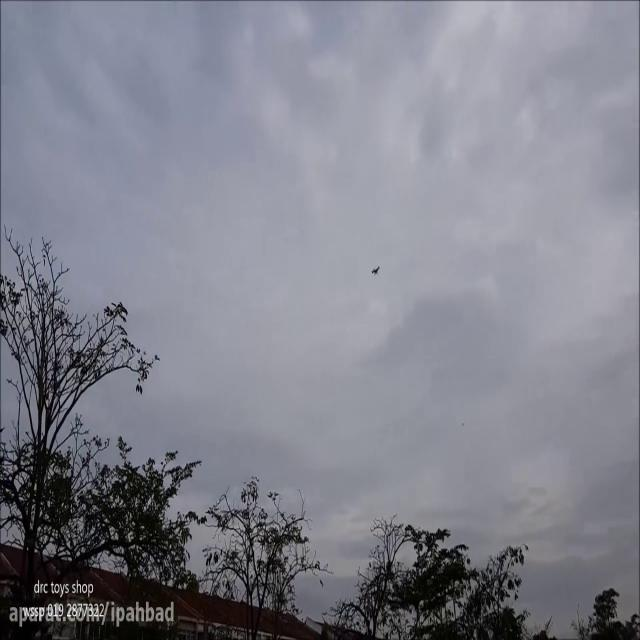drone: (370, 262, 382, 278)
